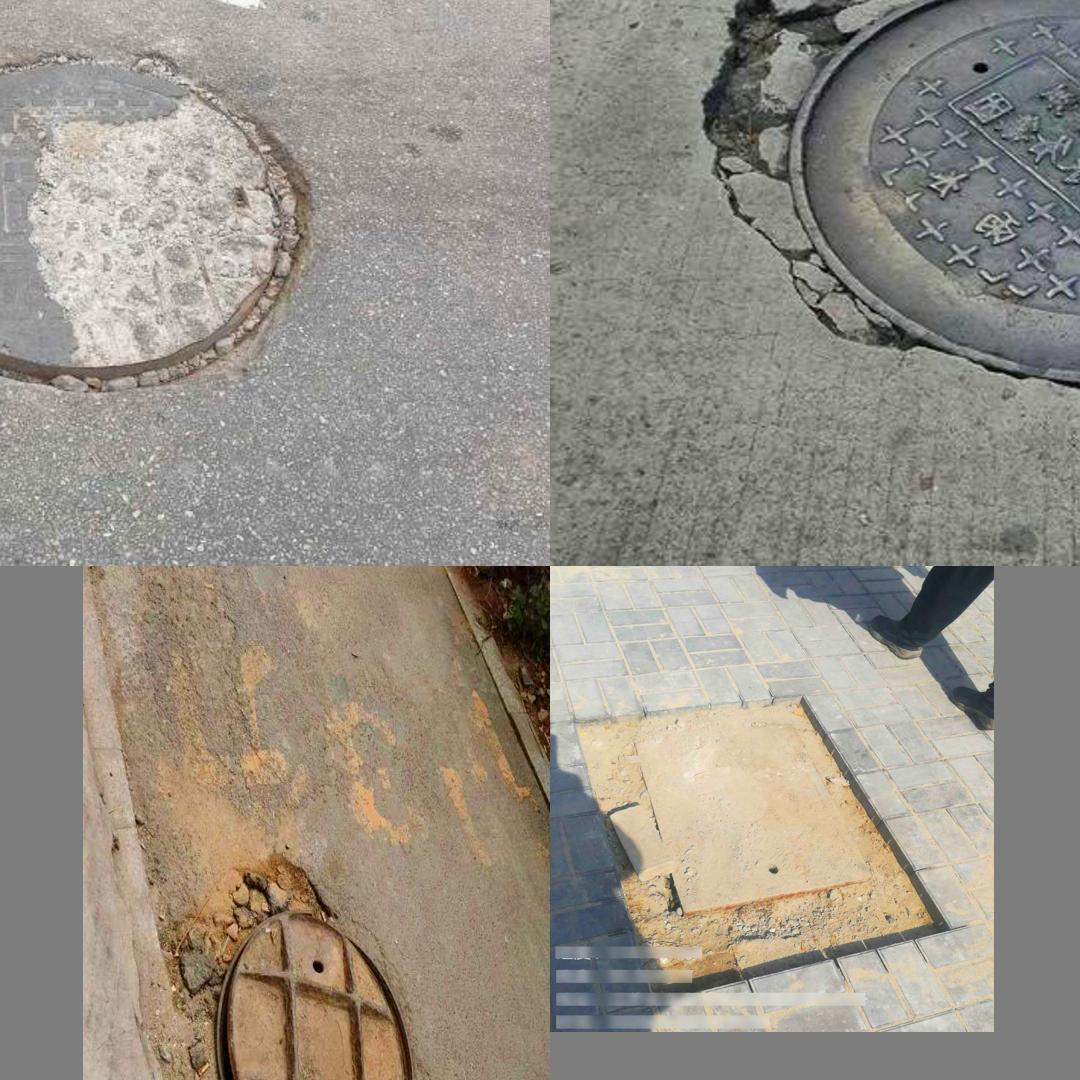circle: (687, 0, 1080, 425), (0, 31, 332, 399), (574, 707, 944, 959), (136, 847, 446, 1080)
